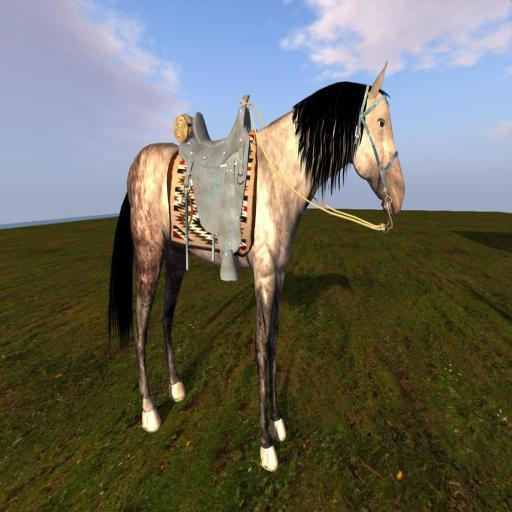horse: (104, 56, 406, 470)
